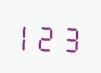one: (18, 18, 38, 52)
three: (61, 20, 81, 54)
two: (40, 19, 60, 53)
